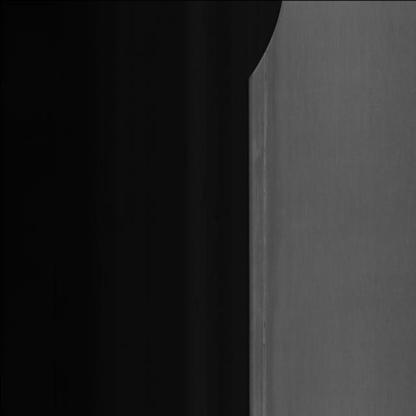crescent_gap: (242, 0, 287, 93)
